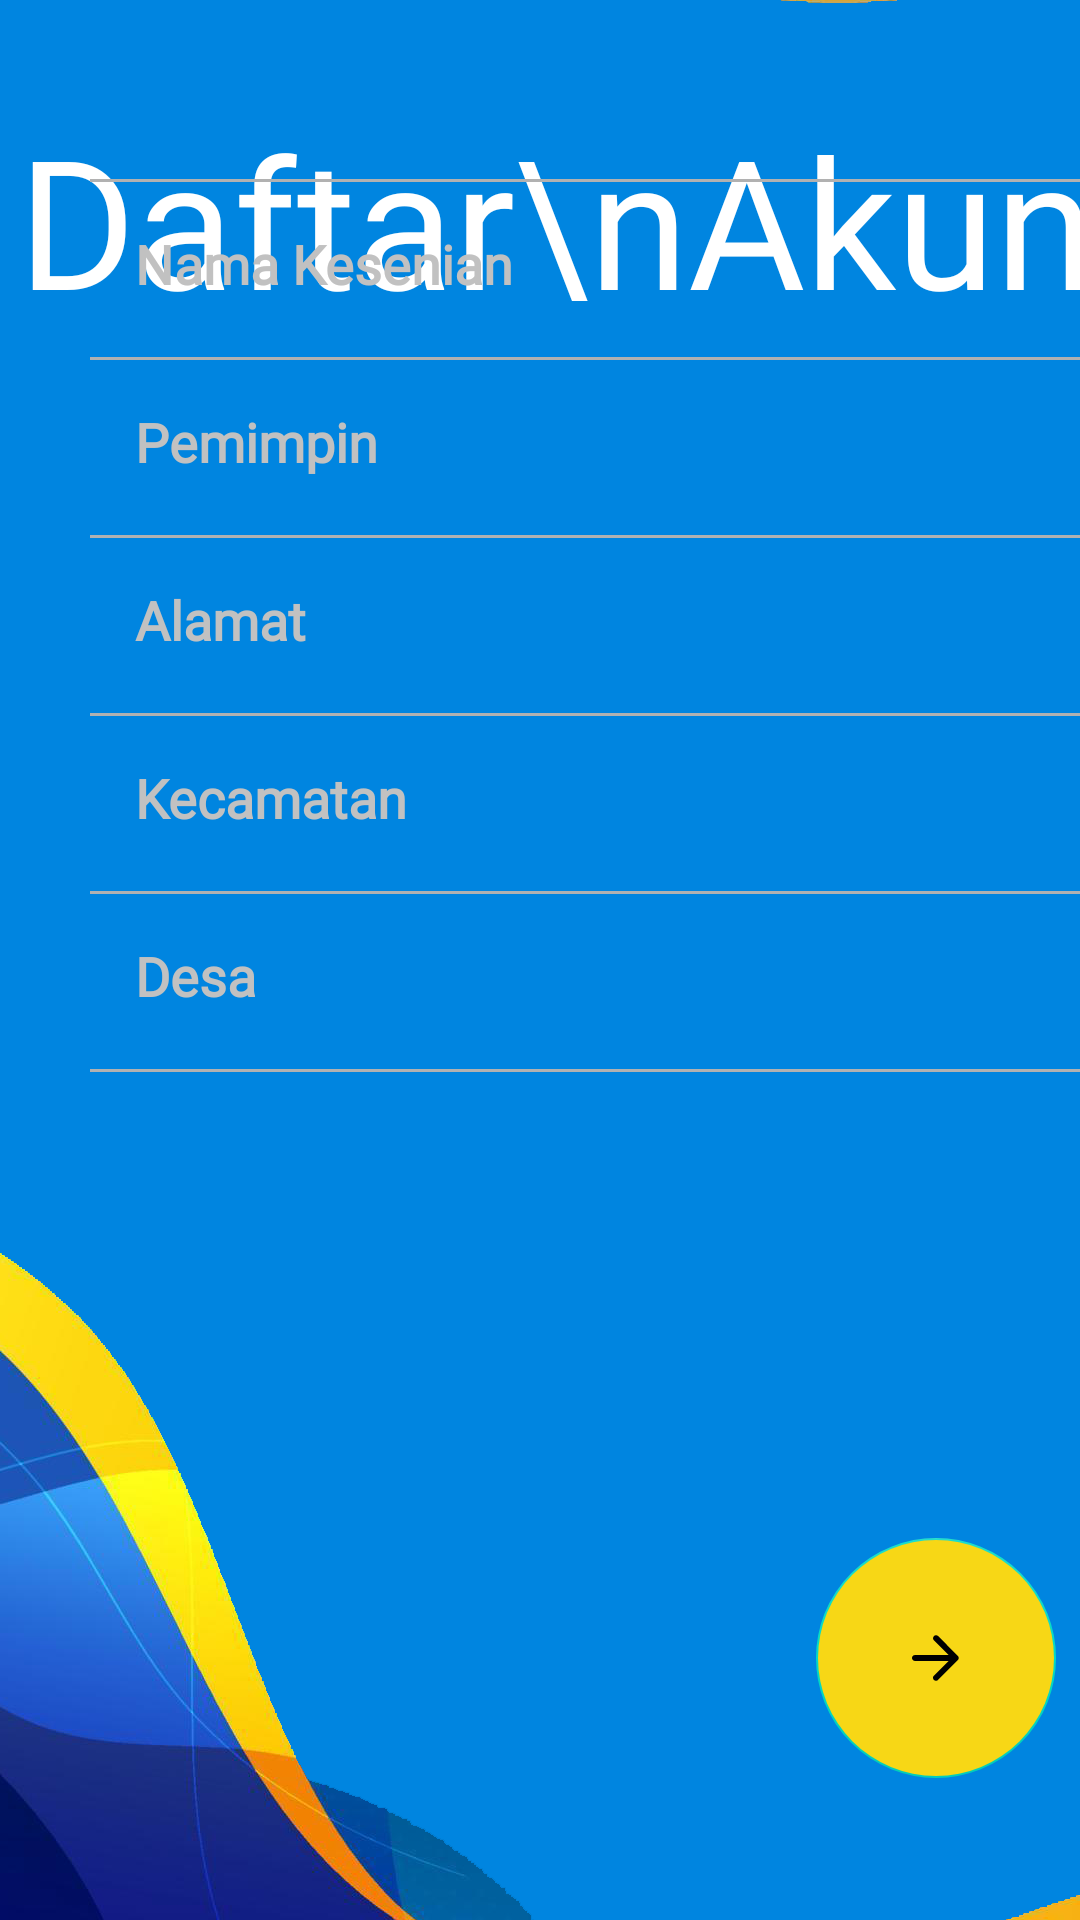

Named icons in this screenshot (1080x1920) and their centers, [x,y]:
arrow: [936,1658]
